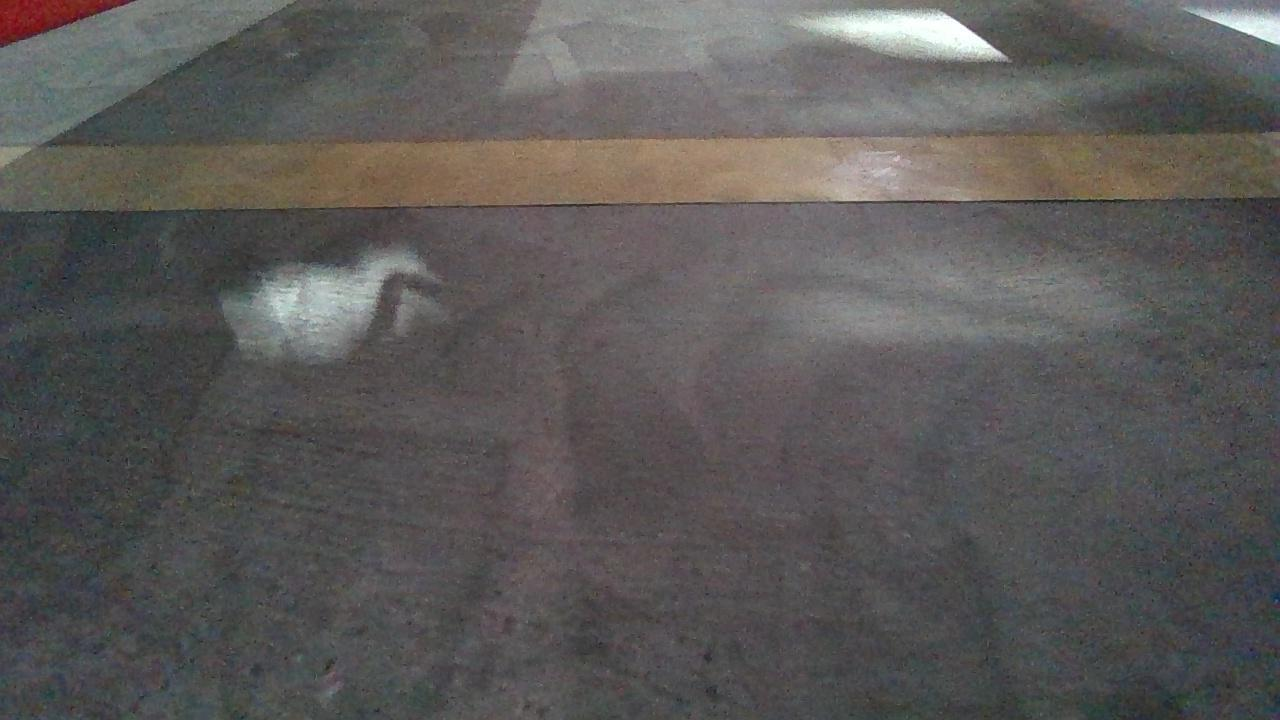yellow_line: (0, 133, 1280, 211)
